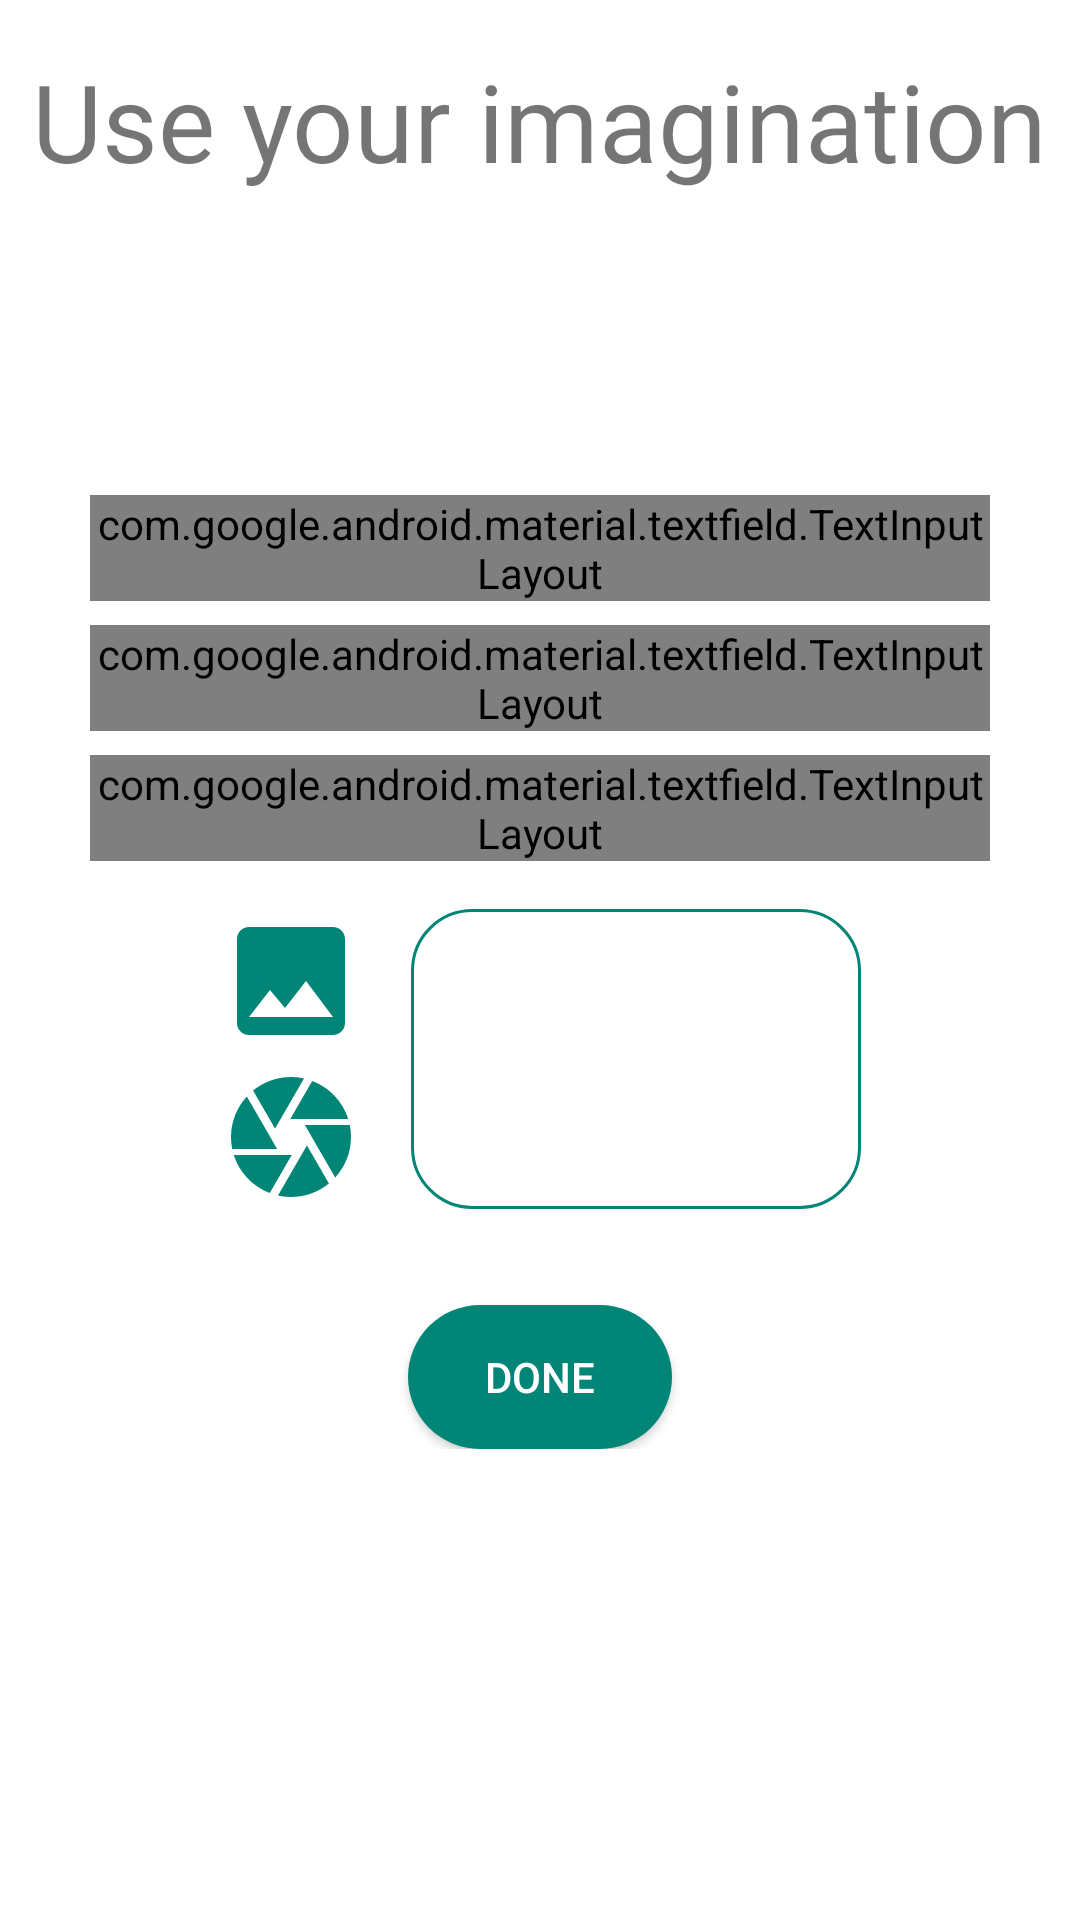

Icons on this 1080×1920 Android screen, each with the point to tap as (x,y):
camera: (291,1137)
photo: (291,981)
